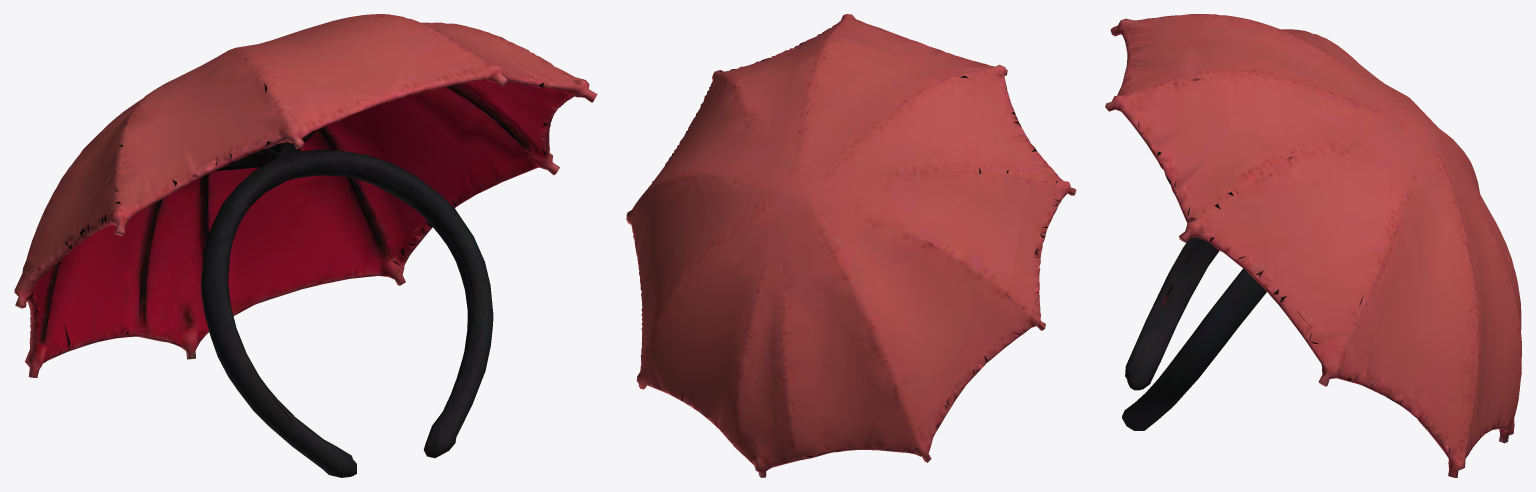
Rendered from umbrella.glb.
3 renders of one model, left to right at view 1: azimuth 30°, elevation 25°; view 2: azimuth 150°, elevation 25°; view 3: azimuth 270°, elevation 25°, orthographic. The views are drawn at different scales.
Visible parts, largest first — view 1: node_0; view 2: node_0; view 3: node_0.
Boxes of the visible parts, x1,y1,x2,y2 form: node_0: (14,14,597,477); node_0: (626,14,1076,477); node_0: (1105,14,1521,477).
Size of the model in its own units: 0.46 by 0.3512 by 0.3303.
Materials: 1 (1 with a texture image).
